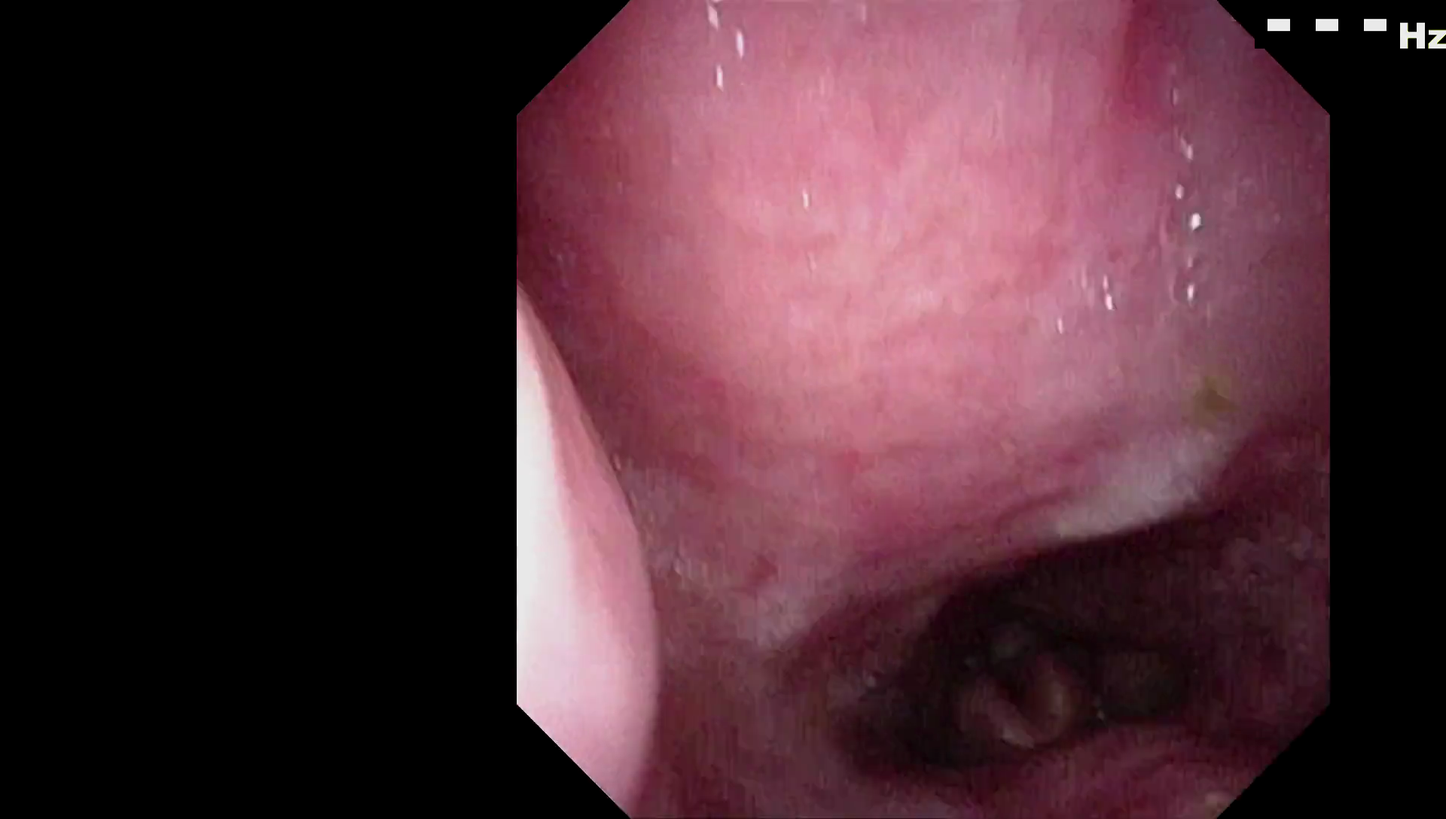close_wall: (524, 281, 666, 806)
next: (825, 507, 1244, 787)
